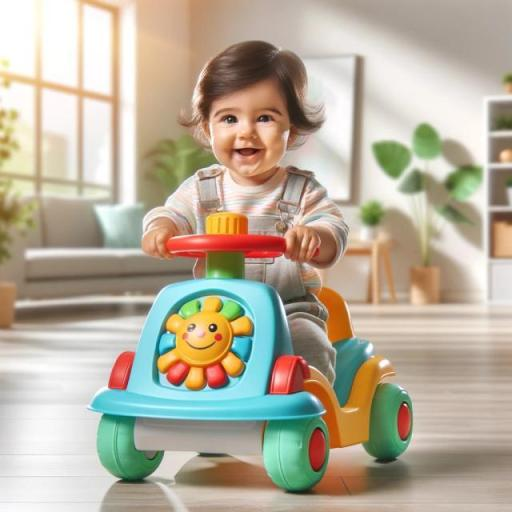baby: (141, 38, 351, 389)
